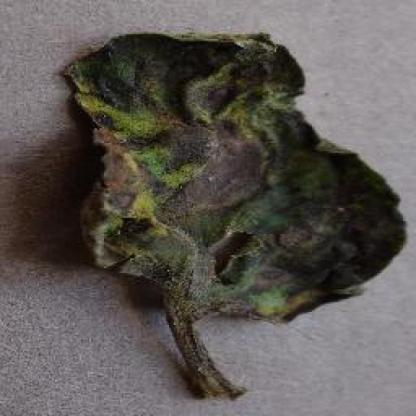Tomato_Blight: (63, 34, 406, 320)
